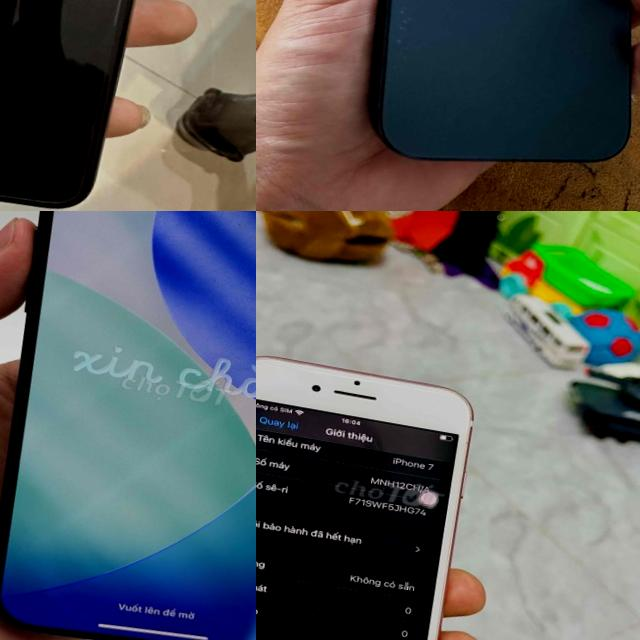gen_15: (0, 211, 256, 640), (315, 0, 640, 200)
gen_7_8: (256, 345, 494, 640)
gen_x_xs: (0, 0, 215, 211)
